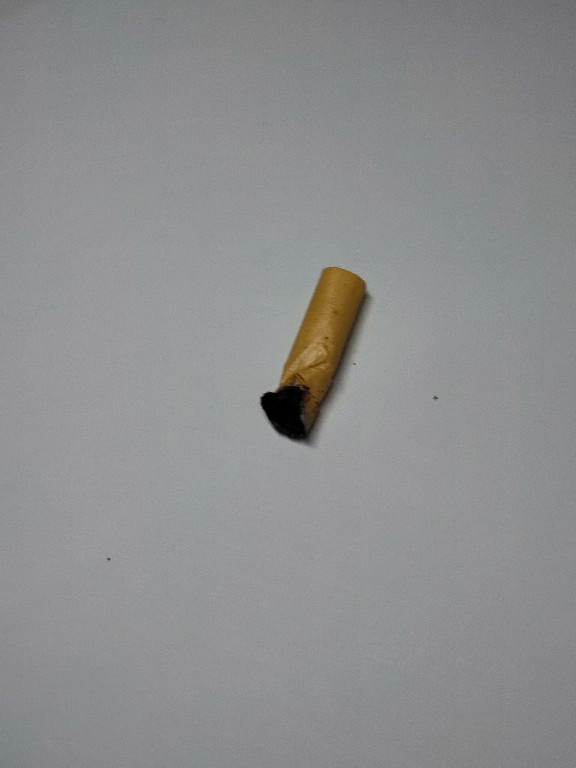cigarette: (256, 260, 371, 452)
